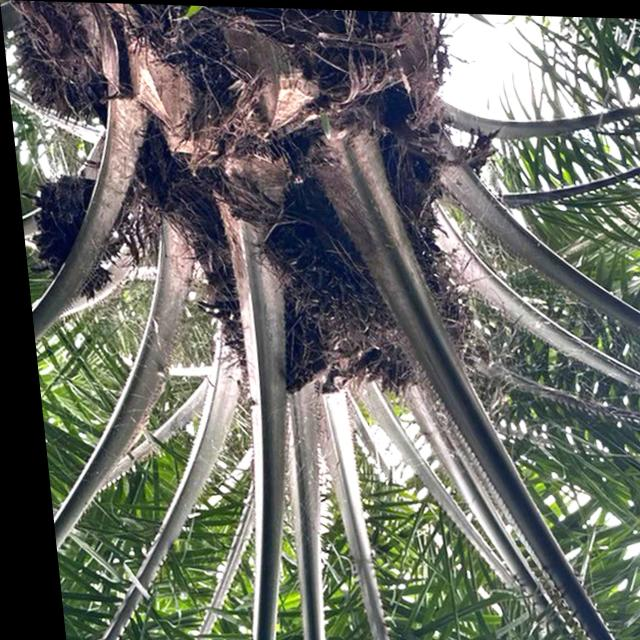unripe: (245, 182, 458, 351)
